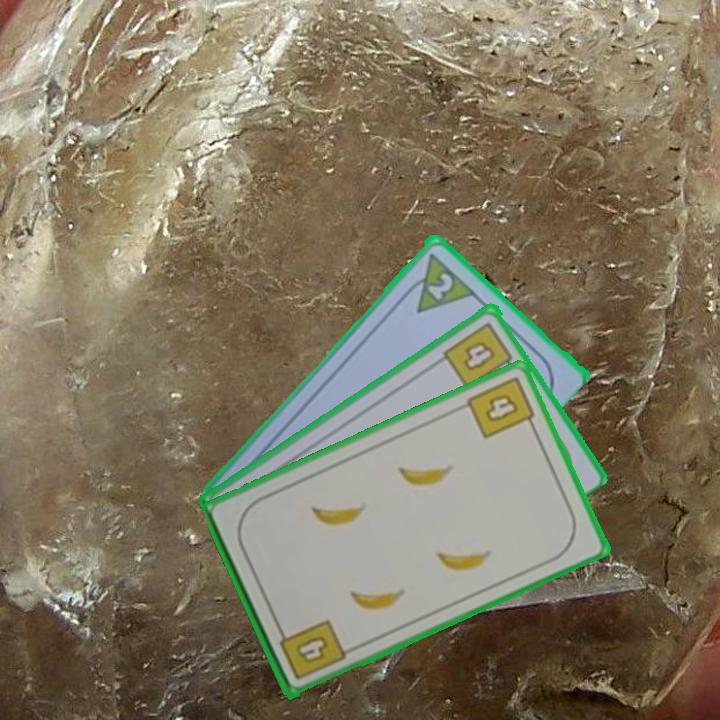2p: (423, 268, 456, 302)
4b: (440, 317, 518, 391), (463, 372, 539, 442), (274, 615, 348, 683)
